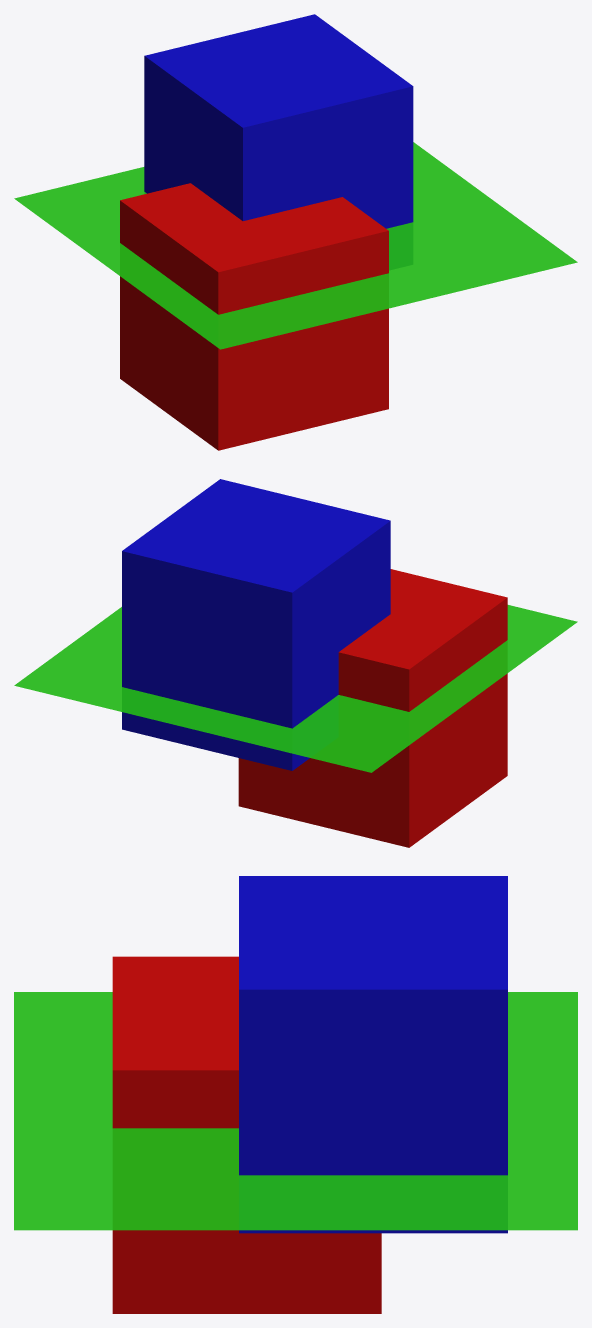
The model's file is res.obj.
The picture shows the model from 3 angles, top to bottom: view 1: azimuth 30°, elevation 25°; view 2: azimuth 150°, elevation 25°; view 3: azimuth 270°, elevation 25°; orthographic projection. The views are drawn at different scales.
Parts seen in each view (by area): view 1: Cube_Cube.001, Cube.001_Cube.002, PartitionPlane; view 2: Cube.001_Cube.002, Cube_Cube.001, PartitionPlane; view 3: Cube.001_Cube.002, PartitionPlane, Cube_Cube.001.
Part boxes in pixels (bbox=[...]): Cube_Cube.001: bbox=[120, 183, 388, 450]; Cube.001_Cube.002: bbox=[144, 14, 413, 228]; PartitionPlane: bbox=[14, 142, 577, 349]; Cube.001_Cube.002: bbox=[122, 479, 390, 770]; Cube_Cube.001: bbox=[238, 569, 507, 847]; PartitionPlane: bbox=[14, 605, 577, 772]; Cube.001_Cube.002: bbox=[239, 876, 507, 1233]; PartitionPlane: bbox=[14, 992, 577, 1230]; Cube_Cube.001: bbox=[112, 956, 381, 1313].
Bounding box in the file's own units: 4.19 × 3.05 × 4.19.
